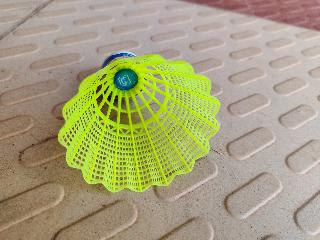shuttlecock: (57, 50, 219, 192)
